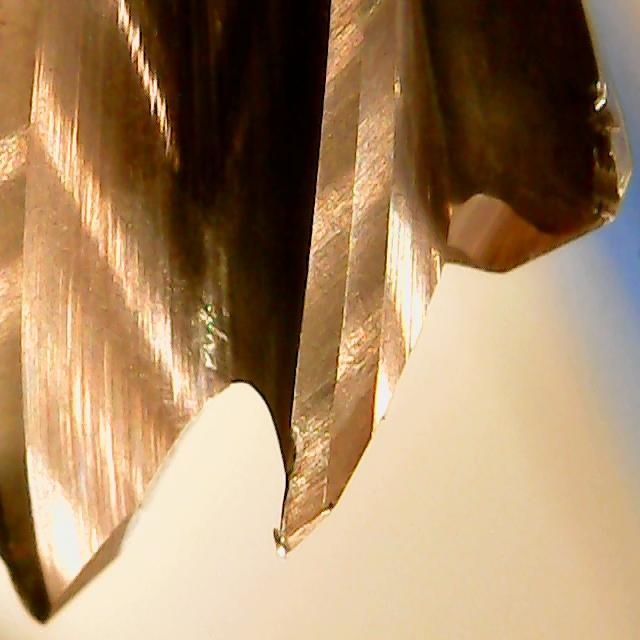Tool-wear-class-1: (261, 328, 384, 555)
